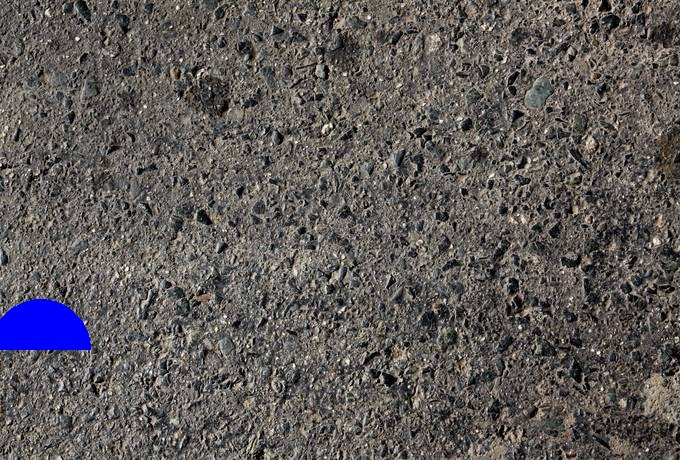blue_semicircle: (0, 299, 90, 349)
